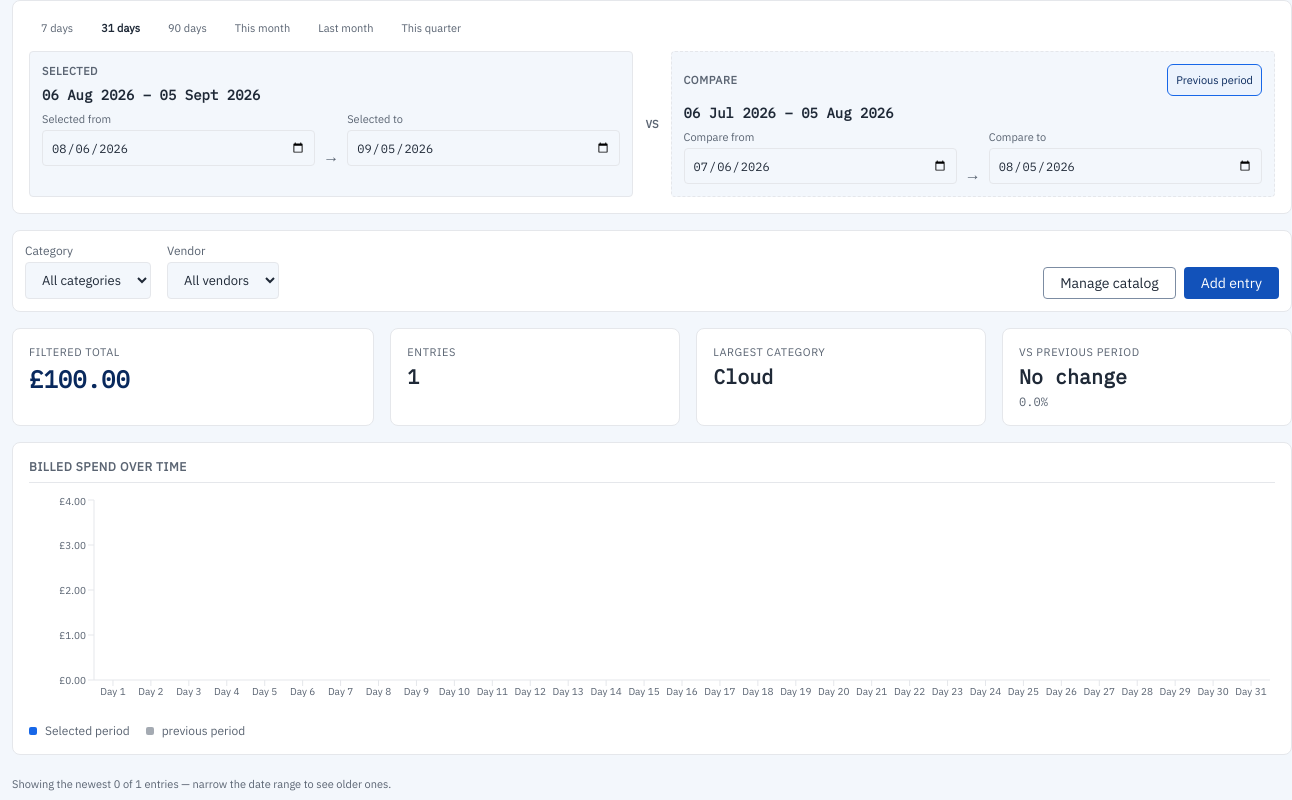
Test: applies the vendor filter to the authoritative totals
The width and height of the screenshot is (1292, 800).
Expected: the text "£100.00" is shown, top-left (29, 363), bottom-right (130, 395)
Select "Azure" in the dropdown labelled "Vendor" at point(223, 280), box top-left (167, 262), bottom-right (279, 299)
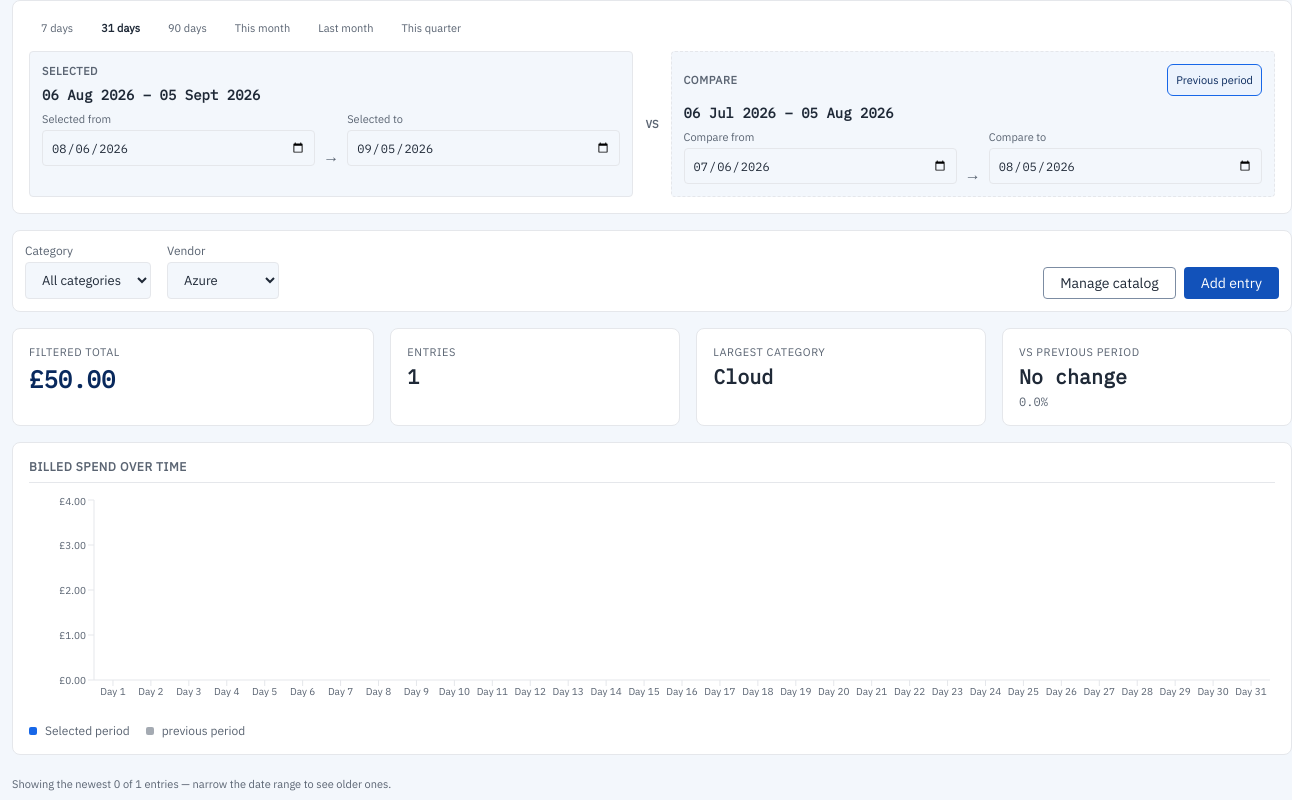
Expected: the text "£50.00" is shown, top-left (29, 363), bottom-right (115, 395)
